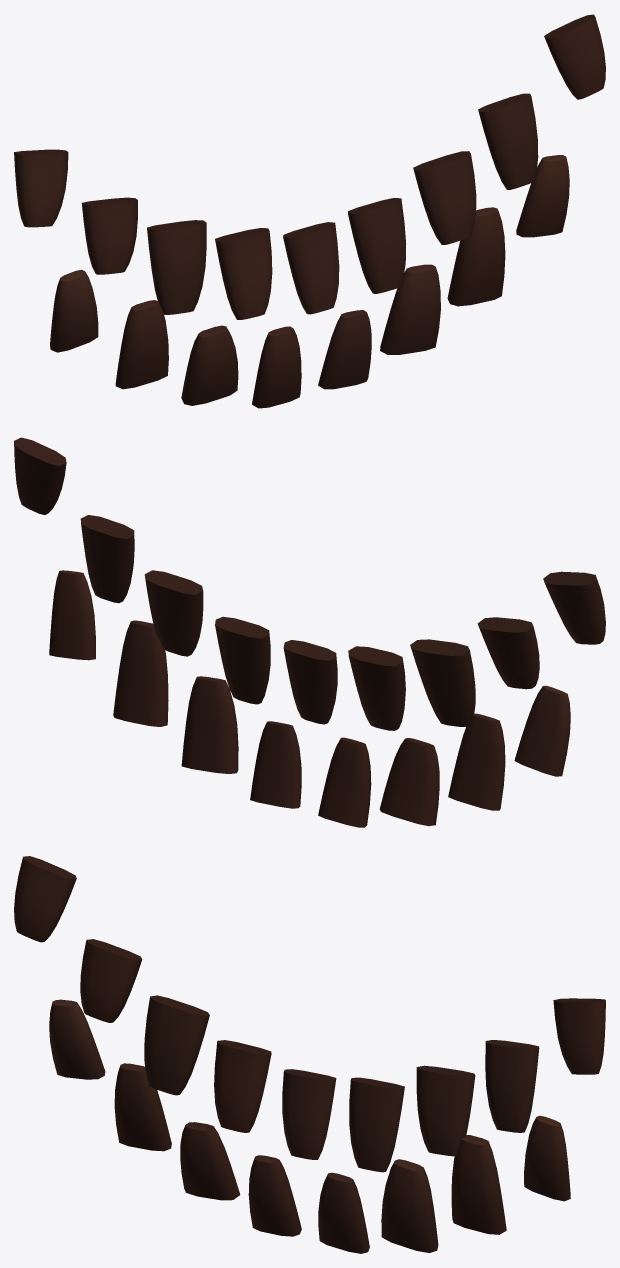
Rendered from teeth_v01.glb.
The picture shows the model from 3 angles, top to bottom: view 1: azimuth 30°, elevation 25°; view 2: azimuth 150°, elevation 25°; view 3: azimuth 330°, elevation 25°; orthographic projection.
Visible parts, largest first — view 1: GrinTeeth_Mesh; view 2: GrinTeeth_Mesh; view 3: GrinTeeth_Mesh.
Boxes of the visible parts, box(x1,y1,x2,y2) form: GrinTeeth_Mesh: box(14, 14, 605, 408); GrinTeeth_Mesh: box(14, 437, 605, 827); GrinTeeth_Mesh: box(14, 856, 605, 1253).
Size of the model in its own units: 0.9 by 0.4523 by 0.0587.
